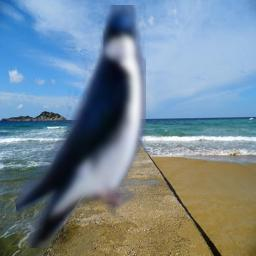Swallow: (16, 5, 146, 248)
